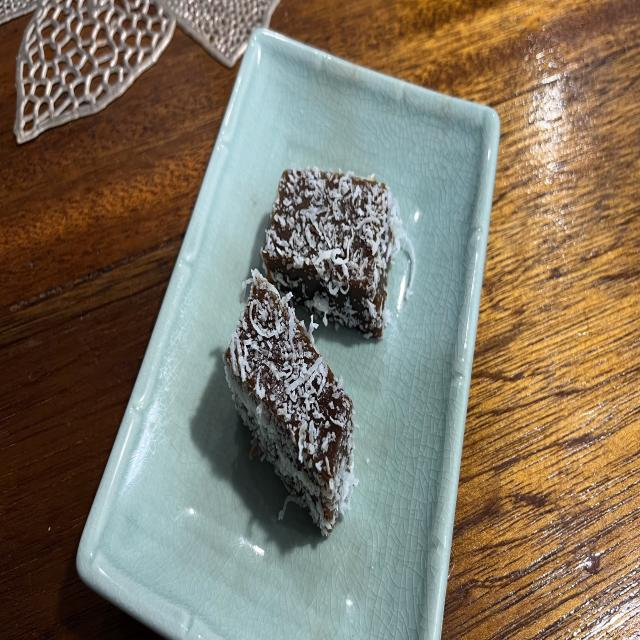kaswi: (224, 269, 355, 536), (261, 167, 415, 338)
